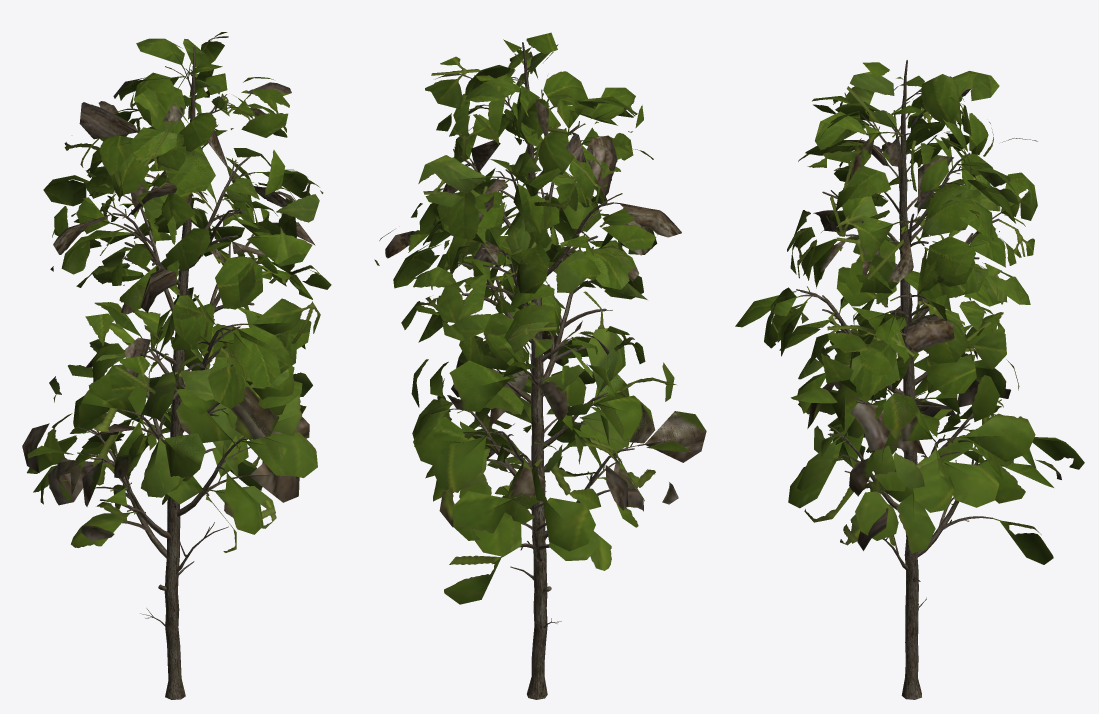
The picture shows the model from 3 angles, left to right: view 1: azimuth 30°, elevation 25°; view 2: azimuth 150°, elevation 25°; view 3: azimuth 270°, elevation 25°; orthographic projection.
Visible parts, largest first — view 1: tr6_prim4_74_StaticMeshComponent0, tr6_prim6_70_StaticMeshComponent0, tr6_prim1_80_StaticMeshComponent0, tr6_prim3_76_StaticMeshComponent0, tr6_prim0_82_StaticMeshComponent0, tr6_prim2_78_StaticMeshComponent0; view 2: tr6_prim6_70_StaticMeshComponent0, tr6_prim1_80_StaticMeshComponent0, tr6_prim4_74_StaticMeshComponent0, tr6_prim3_76_StaticMeshComponent0, tr6_prim0_82_StaticMeshComponent0, tr6_prim2_78_StaticMeshComponent0; view 3: tr6_prim6_70_StaticMeshComponent0, tr6_prim4_74_StaticMeshComponent0, tr6_prim1_80_StaticMeshComponent0, tr6_prim3_76_StaticMeshComponent0, tr6_prim2_78_StaticMeshComponent0, tr6_prim0_82_StaticMeshComponent0.
Part boxes in pixels (<box>): tr6_prim4_74_StaticMeshComponent0: <box>43,165,331,408</box>; tr6_prim6_70_StaticMeshComponent0: <box>22,309,317,552</box>; tr6_prim1_80_StaticMeshComponent0: <box>52,32,323,254</box>; tr6_prim3_76_StaticMeshComponent0: <box>76,374,247,699</box>; tr6_prim0_82_StaticMeshComponent0: <box>120,195,260,443</box>; tr6_prim2_78_StaticMeshComponent0: <box>108,46,255,285</box>; tr6_prim6_70_StaticMeshComponent0: <box>411,308,706,604</box>; tr6_prim1_80_StaticMeshComponent0: <box>411,32,681,262</box>; tr6_prim4_74_StaticMeshComponent0: <box>374,159,657,415</box>; tr6_prim3_76_StaticMeshComponent0: <box>453,394,637,699</box>; tr6_prim0_82_StaticMeshComponent0: <box>451,235,609,452</box>; tr6_prim2_78_StaticMeshComponent0: <box>460,42,616,276</box>; tr6_prim6_70_StaticMeshComponent0: <box>788,329,1084,564</box>; tr6_prim4_74_StaticMeshComponent0: <box>735,172,1037,404</box>; tr6_prim1_80_StaticMeshComponent0: <box>794,62,1037,282</box>; tr6_prim3_76_StaticMeshComponent0: <box>828,388,993,699</box>; tr6_prim2_78_StaticMeshComponent0: <box>822,60,970,282</box>; tr6_prim0_82_StaticMeshComponent0: <box>796,216,999,455</box>.
Bounding box in the file's own units: 2.54 × 5.42 × 2.56.
Materials: 4 (4 with a texture image).
